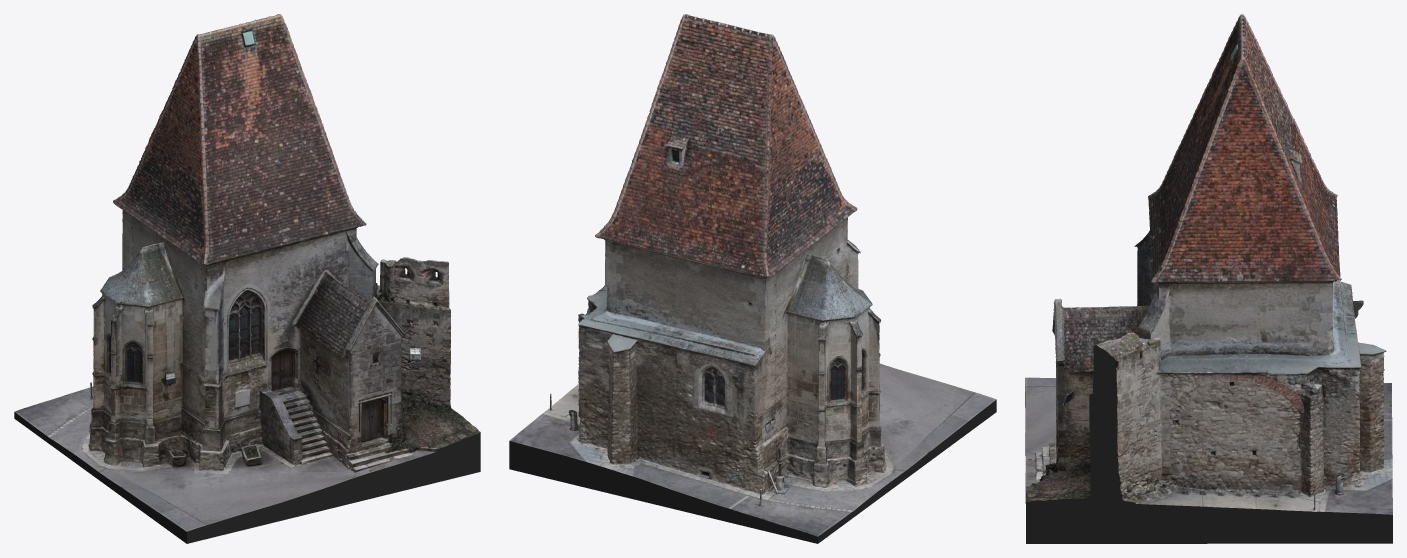
The model's file is martinskapelle.glb.
3 views of the same model, side by side, from view 1: azimuth 30°, elevation 25°; view 2: azimuth 150°, elevation 25°; view 3: azimuth 270°, elevation 25° (orthographic). The views are drawn at different scales.
Parts seen in each view (by area): view 1: Object_2, Object_20; view 2: Object_2, Object_20; view 3: Object_2, Object_20.
Boxes of the visible parts, x1,y1,x2,y2 form: Object_2: (14, 14, 480, 531); Object_20: (14, 274, 480, 543); Object_2: (509, 14, 996, 536); Object_20: (509, 399, 996, 543); Object_2: (1025, 14, 1392, 514); Object_20: (1025, 345, 1392, 543).
Bounding box in the file's own units: 13.53 × 17.86 × 13.68.
2 materials, 1 textured.
